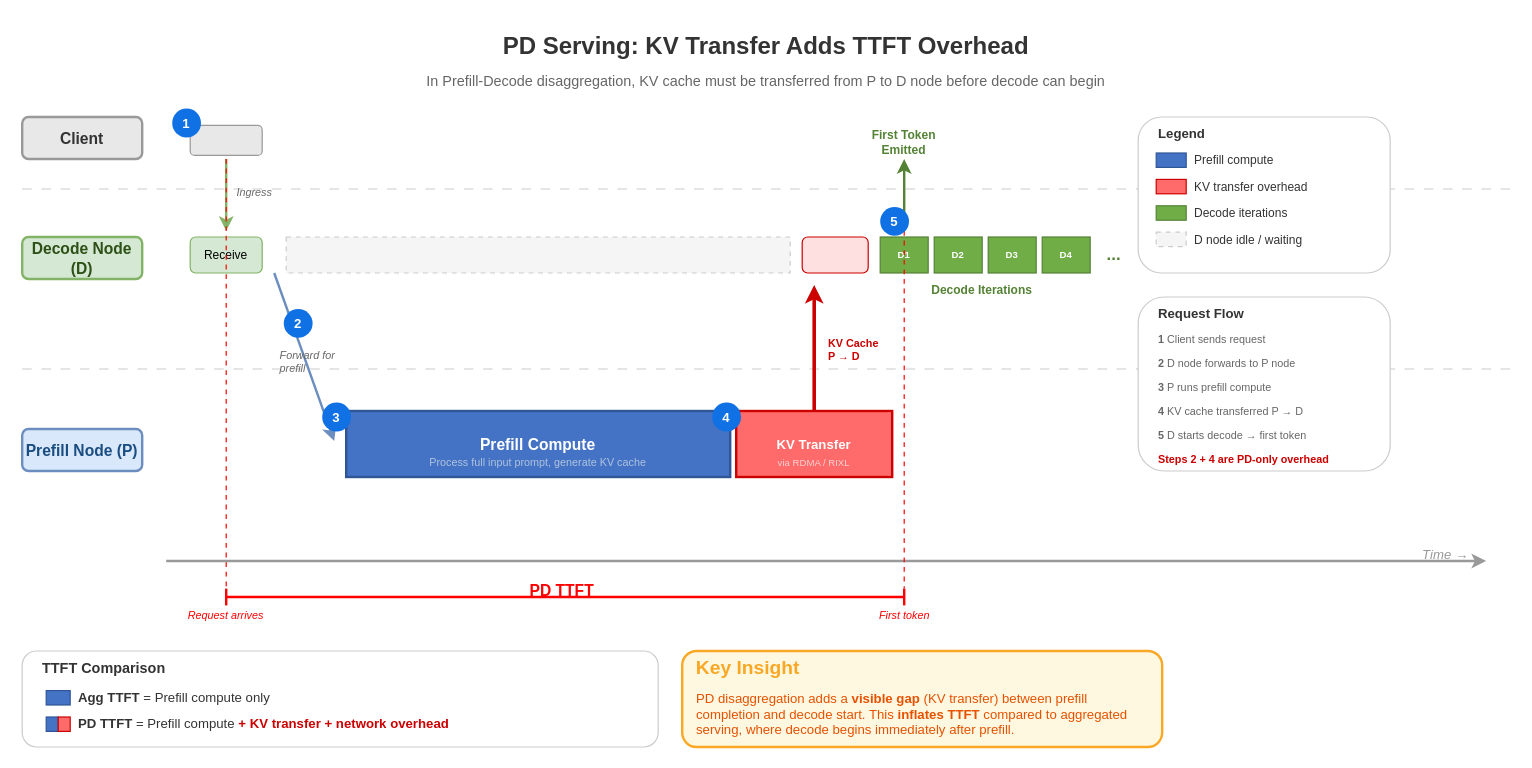
Image size: 1532x768. Some labels were removed from this diagram. The centre of each missing label's shape, as x and y in pixels:
KV Recv: point (834, 254)
Request: point (225, 139)
Waiting for KV...: point (537, 254)
